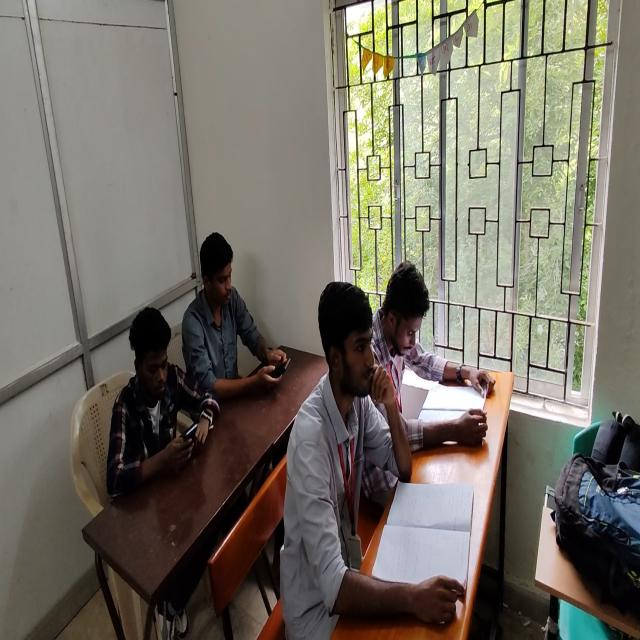listening: (294, 281, 420, 640)
reading: (372, 260, 495, 490)
using_mobile: (107, 305, 224, 498), (181, 230, 285, 412)
